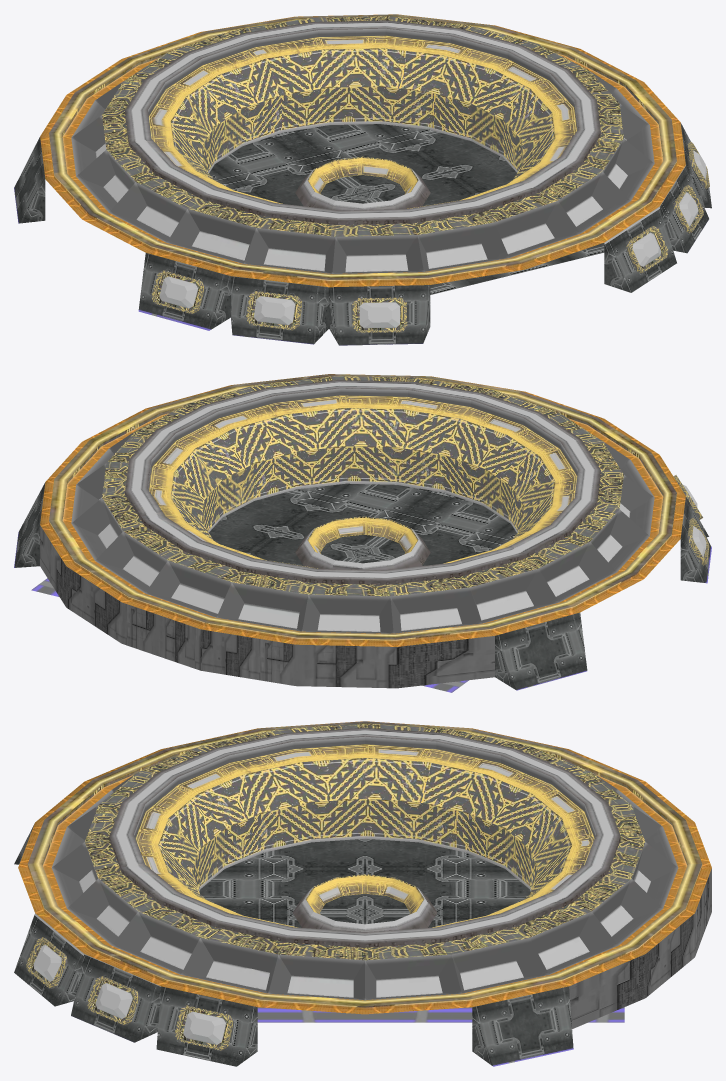
File: pm-floor-ring.glb
3 views of the same model, one above another, from view 1: azimuth 30°, elevation 25°; view 2: azimuth 150°, elevation 25°; view 3: azimuth 270°, elevation 25° (orthographic). The views are drawn at different scales.
Parts seen in each view (by area): view 1: Floor_Ring; view 2: Floor_Ring; view 3: Floor_Ring.
Part boxes in pixels (box(x1,y1,x2,y2)): Floor_Ring: box(14, 14, 711, 345); Floor_Ring: box(14, 374, 711, 692); Floor_Ring: box(14, 721, 711, 1066).
Bounding box in the file's own units: 2.5 × 0.3566 × 2.49.
Materials: 1 (1 with a texture image).
